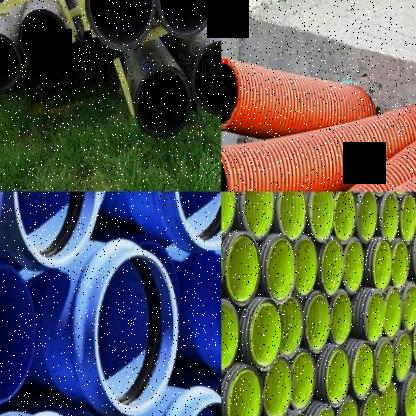pipe: (94, 253, 178, 415), (14, 192, 101, 268), (0, 266, 36, 406), (134, 65, 192, 137), (85, 0, 156, 51), (18, 9, 67, 69), (174, 192, 221, 252), (249, 299, 285, 371), (226, 233, 261, 307), (155, 0, 217, 38), (266, 234, 298, 305), (191, 40, 221, 113), (226, 365, 264, 416), (263, 356, 292, 416), (279, 298, 305, 359), (291, 350, 317, 411), (305, 292, 330, 355), (242, 192, 274, 240), (325, 347, 350, 408), (294, 235, 317, 299), (221, 299, 240, 375), (351, 341, 375, 400), (278, 192, 307, 240), (0, 32, 23, 92), (221, 59, 240, 129), (330, 290, 353, 347), (309, 192, 335, 242), (321, 238, 343, 296), (334, 192, 357, 242), (344, 237, 364, 294), (365, 291, 385, 345), (374, 339, 394, 392), (358, 192, 378, 242), (391, 239, 410, 291), (383, 287, 402, 339), (380, 192, 400, 240), (374, 239, 392, 291), (394, 332, 412, 382), (400, 192, 416, 246), (401, 282, 416, 332), (221, 192, 236, 236), (380, 383, 398, 416), (360, 390, 382, 416), (404, 373, 416, 416), (335, 396, 357, 416), (311, 402, 338, 416), (412, 316, 416, 366), (414, 230, 416, 278)
